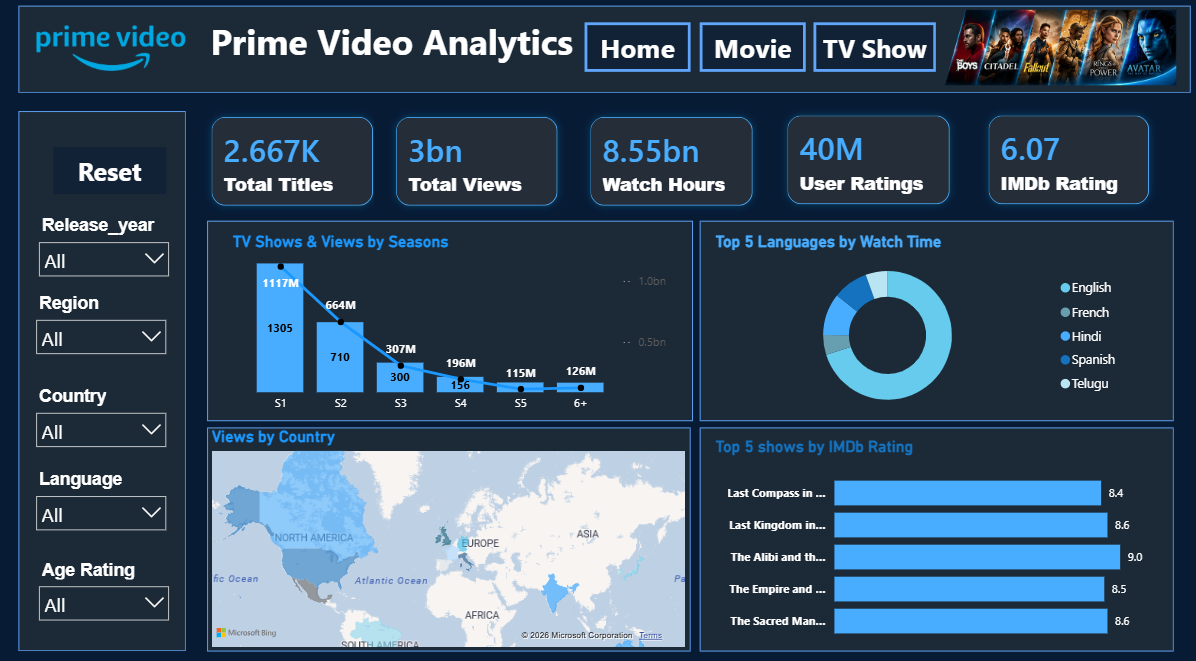

The page's visual inventory and layout, read from the dashboard file:
{"tool":"powerbi","page":{"name":"DASHBOARD","canvas":[1280,720],"ordinal":0},"visuals":[{"type":"shape","title":"5thshape","box":[597.5,497.5,662.5,212.5],"z":0},{"type":"shape","box":[20,17.5,1242.5,92.5],"z":1000},{"type":"image","box":[40,18,158,90],"z":2000},{"type":"cardVisual","fields":{"Data":["Count(prime_video_synthetic_dataset.show_id)"]},"box":[197.5,107.5,227.5,150],"z":3000},{"type":"cardVisual","fields":{"Data":["Sum(prime_video_synthetic_dataset.total_views)"]},"box":[392.5,107.5,227.5,150],"z":4000},{"type":"cardVisual","fields":{"Data":["Sum(prime_video_synthetic_dataset.watch_time_hours)"]},"box":[598,108,228,150],"z":5000},{"type":"cardVisual","fields":{"Data":["Sum(prime_video_synthetic_dataset.user_rating_count)"]},"box":[808,106,228,150],"z":6000},{"type":"cardVisual","fields":{"Data":["Avg(prime_video_synthetic_dataset.imdb_rating)"]},"box":[1020,106,226,150],"z":7000},{"type":"textbox","box":[218.8,25,845,72.5],"z":8000},{"type":"actionButton","box":[862.5,35,130,52.5],"z":9000},{"type":"actionButton","box":[742.5,35,112.5,52.5],"z":10000},{"type":"shape","box":[20,130,177.5,572.5],"z":11000},{"type":"slicer","fields":{"Values":["prime_video_synthetic_dataset.release_year"]},"box":[32,236,158,82],"z":12000},{"type":"slicer","fields":{"Values":["prime_video_synthetic_dataset.region"]},"box":[32.4,319.1,145.6,82.4],"z":13000},{"type":"slicer","fields":{"Values":["prime_video_synthetic_dataset.country"]},"box":[30,416,158,82],"z":14000},{"type":"slicer","fields":{"Values":["prime_video_synthetic_dataset.language"]},"box":[30,504,158,82],"z":15000},{"type":"slicer","fields":{"Values":["prime_video_synthetic_dataset.rating"]},"box":[32,600,158,82],"z":16000},{"type":"actionButton","title":"homereset","box":[48,158,120,50],"z":17000},{"type":"shape","title":"firstshape","box":[218,259,363.3,221.7],"z":18000},{"type":"lineChart","title":"Titles added per year","fields":{"Category":["prime_video_synthetic_dataset.release_year"],"Y":["CountNonNull(prime_video_synthetic_dataset.title)"]},"box":[230,282.5,350,175],"z":19000},{"type":"shape","title":"secondshape","box":[597.5,255,400,232.5],"z":20000},{"type":"barChart","title":"Top genres","fields":{"Y":["CountNonNull(prime_video_synthetic_dataset.show_id)"],"Category":["prime_video_synthetic_dataset.listed_in"]},"box":[607.5,262.5,400,222.5],"z":21000},{"type":"shape","title":"fourthshape","box":[217.5,490,365,220],"z":22000},{"type":"shape","title":"thirdshape","box":[1005,255,255,235],"z":23000},{"type":"clusteredColumnChart","title":"Total Production by Type","fields":{"Y":["Sum(prime_video_synthetic_dataset.production_budget_usd)"],"Category":["prime_video_synthetic_dataset.type"]},"box":[1012.5,265,242.5,220],"z":24000},{"type":"treemap","title":"Content Distribution by Age Rating","fields":{"Group":["prime_video_synthetic_dataset.rating"],"Values":["CountNonNull(prime_video_synthetic_dataset.show_id)"]},"box":[607.5,505,637.5,205],"z":25000},{"type":"pieChart","title":"Views by Region","fields":{"Category":["prime_video_synthetic_dataset.region"],"Y":["Sum(prime_video_synthetic_dataset.total_views)"]},"box":[230,497.5,350,205],"z":26000},{"type":"image","box":[992.5,22.5,262.5,80],"z":27000},{"type":"actionButton","box":[620,35,112.5,52.5],"z":28000}]}

Visuals, with their boxes in screenshot pixels (x1, y1, x2, y2), scaled from the page's 1280x720 canvas onto the 1196x661 screenshot:
"5thshape" shape: 558,457,1177,652
shape: 19,16,1180,101
image: 37,17,185,99
cardVisual - Count(prime_video_synthetic_dataset.show_id): 185,99,397,236
cardVisual - Sum(prime_video_synthetic_dataset.total_views): 367,99,579,236
cardVisual - Sum(prime_video_synthetic_dataset.watch_time_hours): 559,99,772,237
cardVisual - Sum(prime_video_synthetic_dataset.user_rating_count): 755,97,968,235
cardVisual - Avg(prime_video_synthetic_dataset.imdb_rating): 953,97,1164,235
textbox: 204,23,994,90
actionButton: 806,32,927,80
actionButton: 694,32,799,80
shape: 19,119,185,645
slicer - prime_video_synthetic_dataset.release_year: 30,217,178,292
slicer - prime_video_synthetic_dataset.region: 30,293,166,369
slicer - prime_video_synthetic_dataset.country: 28,382,176,457
slicer - prime_video_synthetic_dataset.language: 28,463,176,538
slicer - prime_video_synthetic_dataset.rating: 30,551,178,626
"homereset" actionButton: 45,145,157,191
"firstshape" shape: 204,238,543,441
"Titles added per year" lineChart: 215,259,542,420
"secondshape" shape: 558,234,932,448
"Top genres" barChart: 568,241,941,445
"fourthshape" shape: 203,450,544,652
"thirdshape" shape: 939,234,1177,450
"Total Production by Type" clusteredColumnChart: 946,243,1173,445
"Content Distribution by Age Rating" treemap: 568,464,1163,652
"Views by Region" pieChart: 215,457,542,645
image: 927,21,1173,94
actionButton: 579,32,684,80
